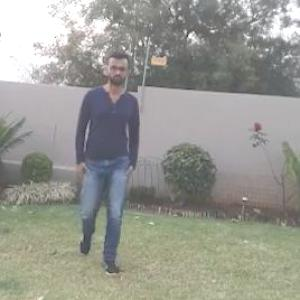follow: (78, 53, 136, 265)
